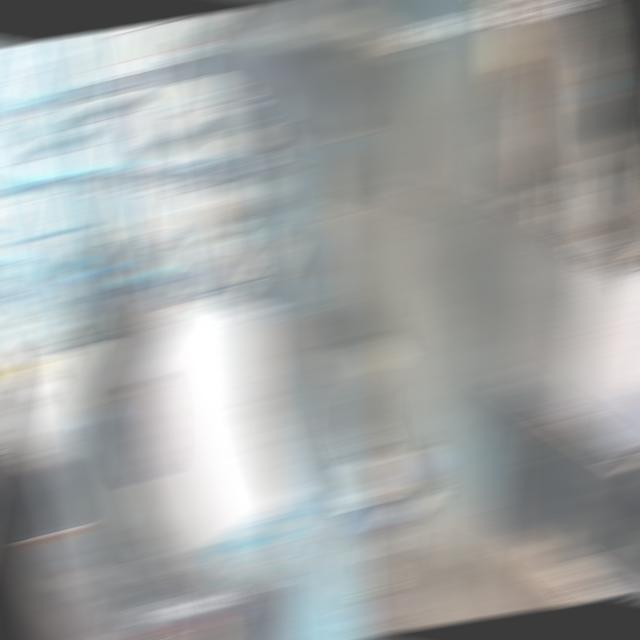cement_mixer_truck: (3, 304, 443, 638)
swing_chute: (262, 123, 380, 338)
